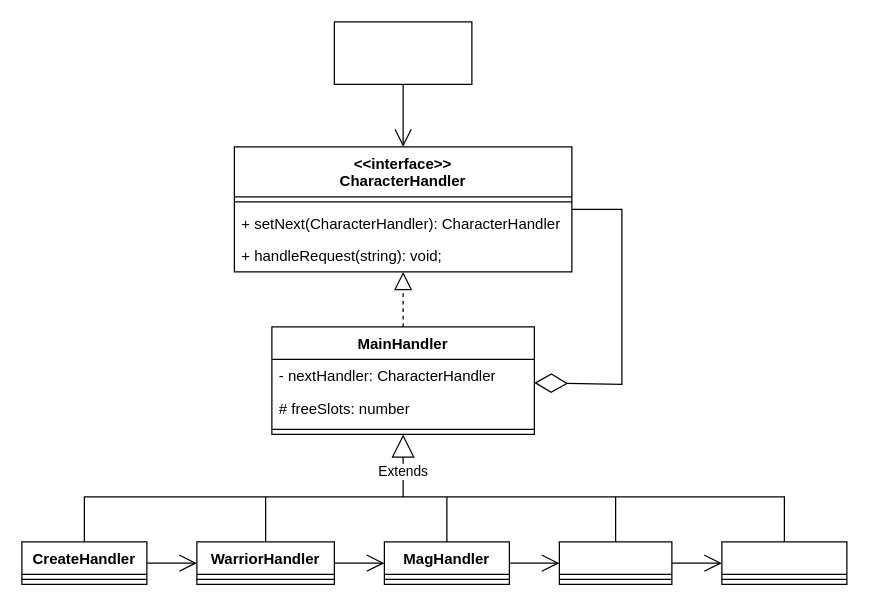
Image size: 869x606. Some labels were removed from this diagram. Each missing label, with the centre of its shape:
Client: (402,52)
DefaultHandler: (784,562)
TankHandler: (615,562)
